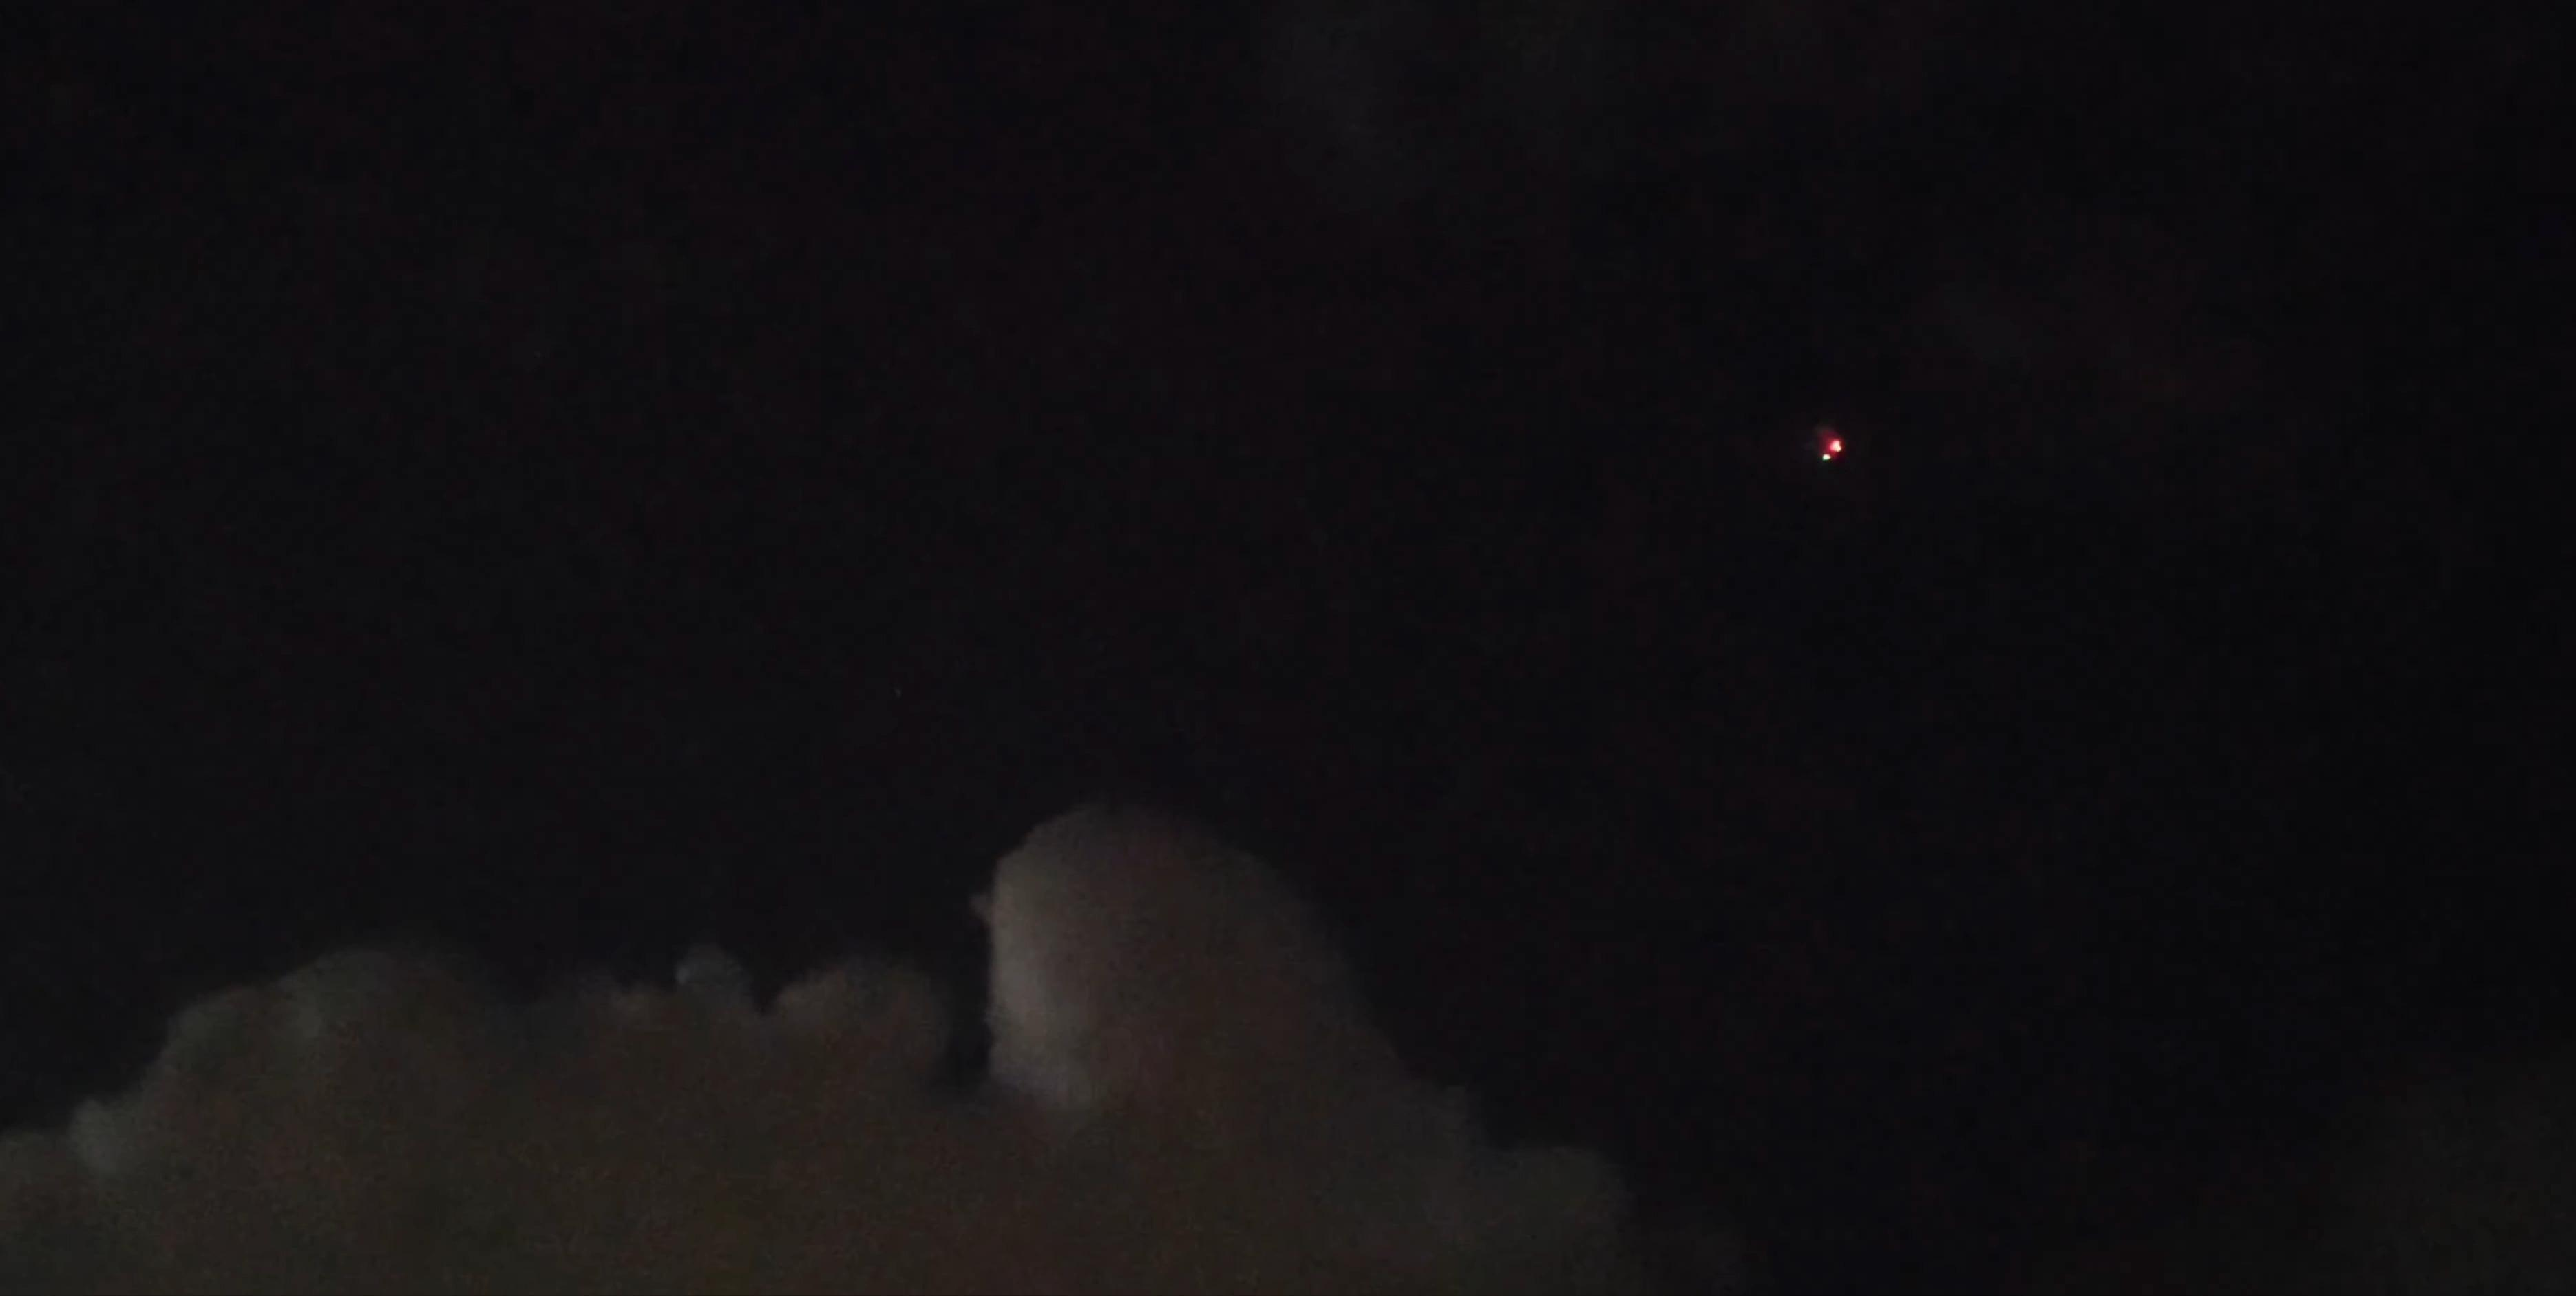Plane: (1751, 405, 1912, 483)
